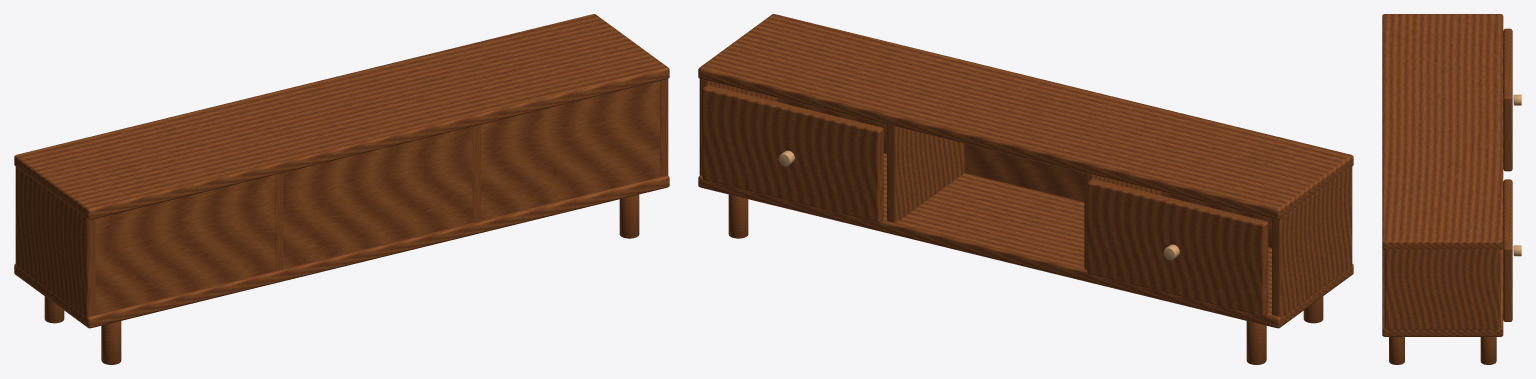
File: hi3d-tv-cabinet_1.glb
3 views of the same model, side by side, from view 1: azimuth 30°, elevation 25°; view 2: azimuth 150°, elevation 25°; view 3: azimuth 270°, elevation 25° (orthographic). The views are drawn at different scales.
Parts seen in each view (by area): view 1: tv_cabinet_mesh; view 2: tv_cabinet_mesh; view 3: tv_cabinet_mesh.
Boxes of the visible parts, box(x1,y1,x2,y2) form: tv_cabinet_mesh: box(14, 14, 669, 364); tv_cabinet_mesh: box(698, 14, 1353, 364); tv_cabinet_mesh: box(1382, 14, 1521, 364).
Size of the model in its own units: 2.36 by 0.6425 by 0.6105.
Materials: 2 (1 with a texture image).
